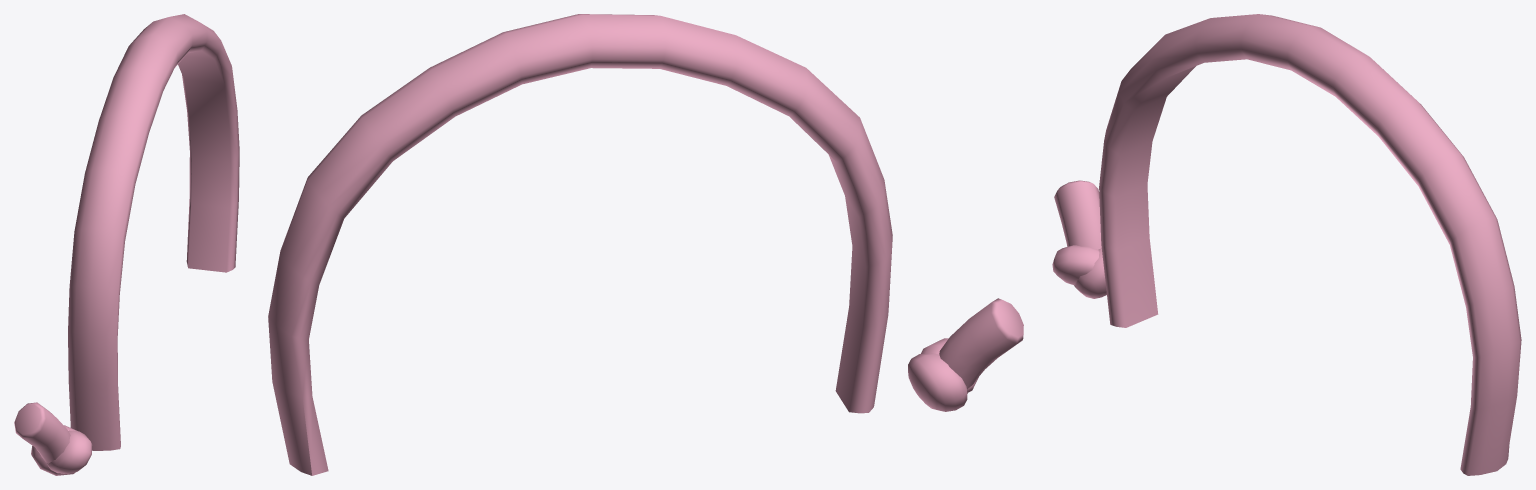
Rendered from tiedModelRight.glb.
3 renders of one model, left to right at view 1: azimuth 30°, elevation 25°; view 2: azimuth 150°, elevation 25°; view 3: azimuth 270°, elevation 25°, orthographic. The views are drawn at different scales.
Visible parts, largest first — view 1: tiedModelRight; view 2: tiedModelRight; view 3: tiedModelRight.
Boxes of the visible parts, box(x1,y1,x2,y2) form: tiedModelRight: box(14, 14, 239, 475); tiedModelRight: box(268, 14, 1023, 475); tiedModelRight: box(1052, 14, 1521, 475).
Size of the model in its own units: 1.2 by 0.9378 by 1.08.
